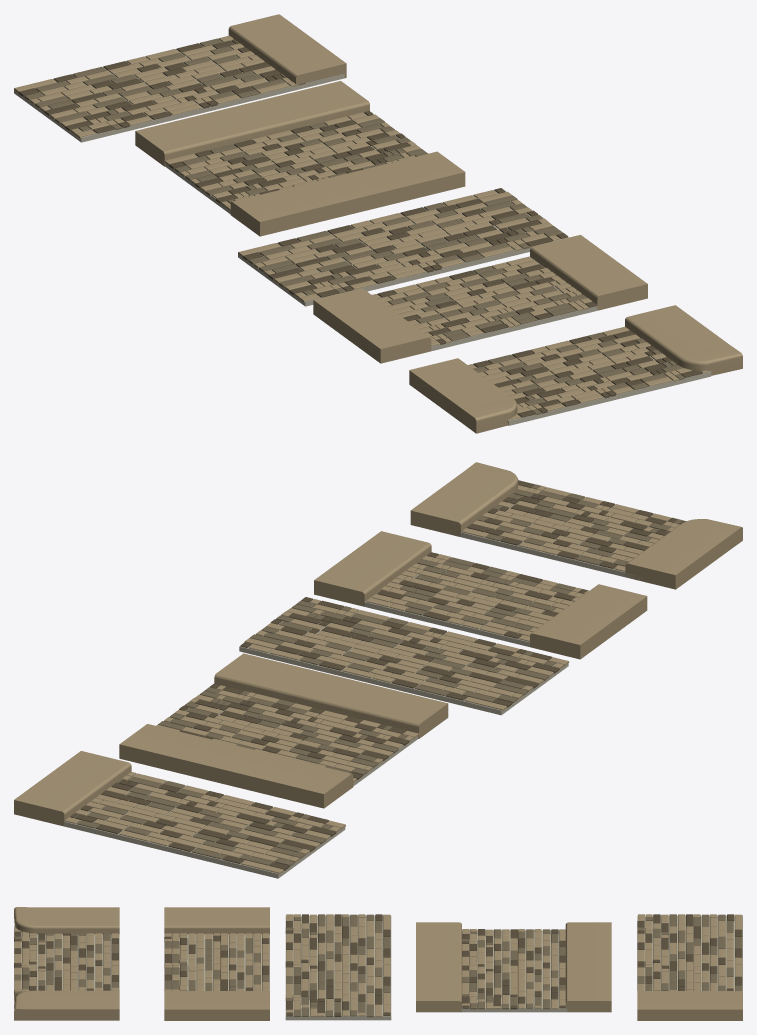
The model's file is SM_routesgroup3.fbx.
The picture shows the model from 3 angles, top to bottom: view 1: azimuth 30°, elevation 25°; view 2: azimuth 150°, elevation 25°; view 3: azimuth 270°, elevation 25°; orthographic projection. The views are drawn at different scales.
Parts seen in each view (by area): view 1: pasted__polySurface10269, polySurface10464, polySurface10079, polySurface10507, polySurface10183; view 2: pasted__polySurface10269, polySurface10464, polySurface10079, polySurface10507, polySurface10183; view 3: pasted__polySurface10269, polySurface10464, polySurface10079, polySurface10183, polySurface10507.
Part boxes in pixels (x1=…): pasted__polySurface10269: x1=135, y1=81, x2=465, y2=236; polySurface10464: x1=313, y1=235, x2=647, y2=363; polySurface10079: x1=409, y1=305, x2=742, y2=433; polySurface10507: x1=14, y1=14, x2=346, y2=142; polySurface10183: x1=238, y1=188, x2=568, y2=306; pasted__polySurface10269: x1=119, y1=653, x2=448, y2=808; polySurface10464: x1=314, y1=531, x2=647, y2=659; polySurface10079: x1=410, y1=462, x2=742, y2=589; polySurface10507: x1=14, y1=751, x2=345, y2=878; polySurface10183: x1=239, y1=597, x2=569, y2=715; pasted__polySurface10269: x1=416, y1=922, x2=611, y2=1012; polySurface10464: x1=164, y1=907, x2=269, y2=1020; polySurface10079: x1=14, y1=907, x2=119, y2=1020; polySurface10183: x1=285, y1=914, x2=391, y2=1020; polySurface10507: x1=637, y1=914, x2=742, y2=1020.
Size of the model in its own units: 1161 by 60.9 by 3492.
